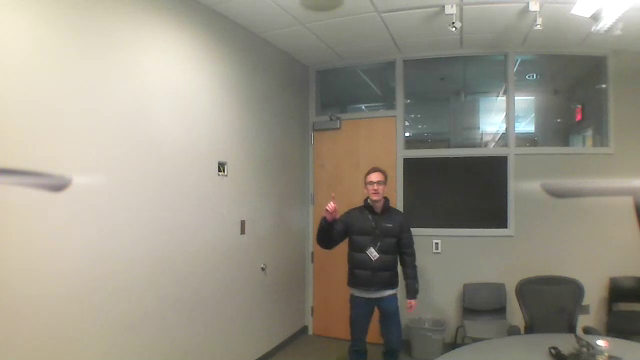up: (324, 188, 341, 218)
